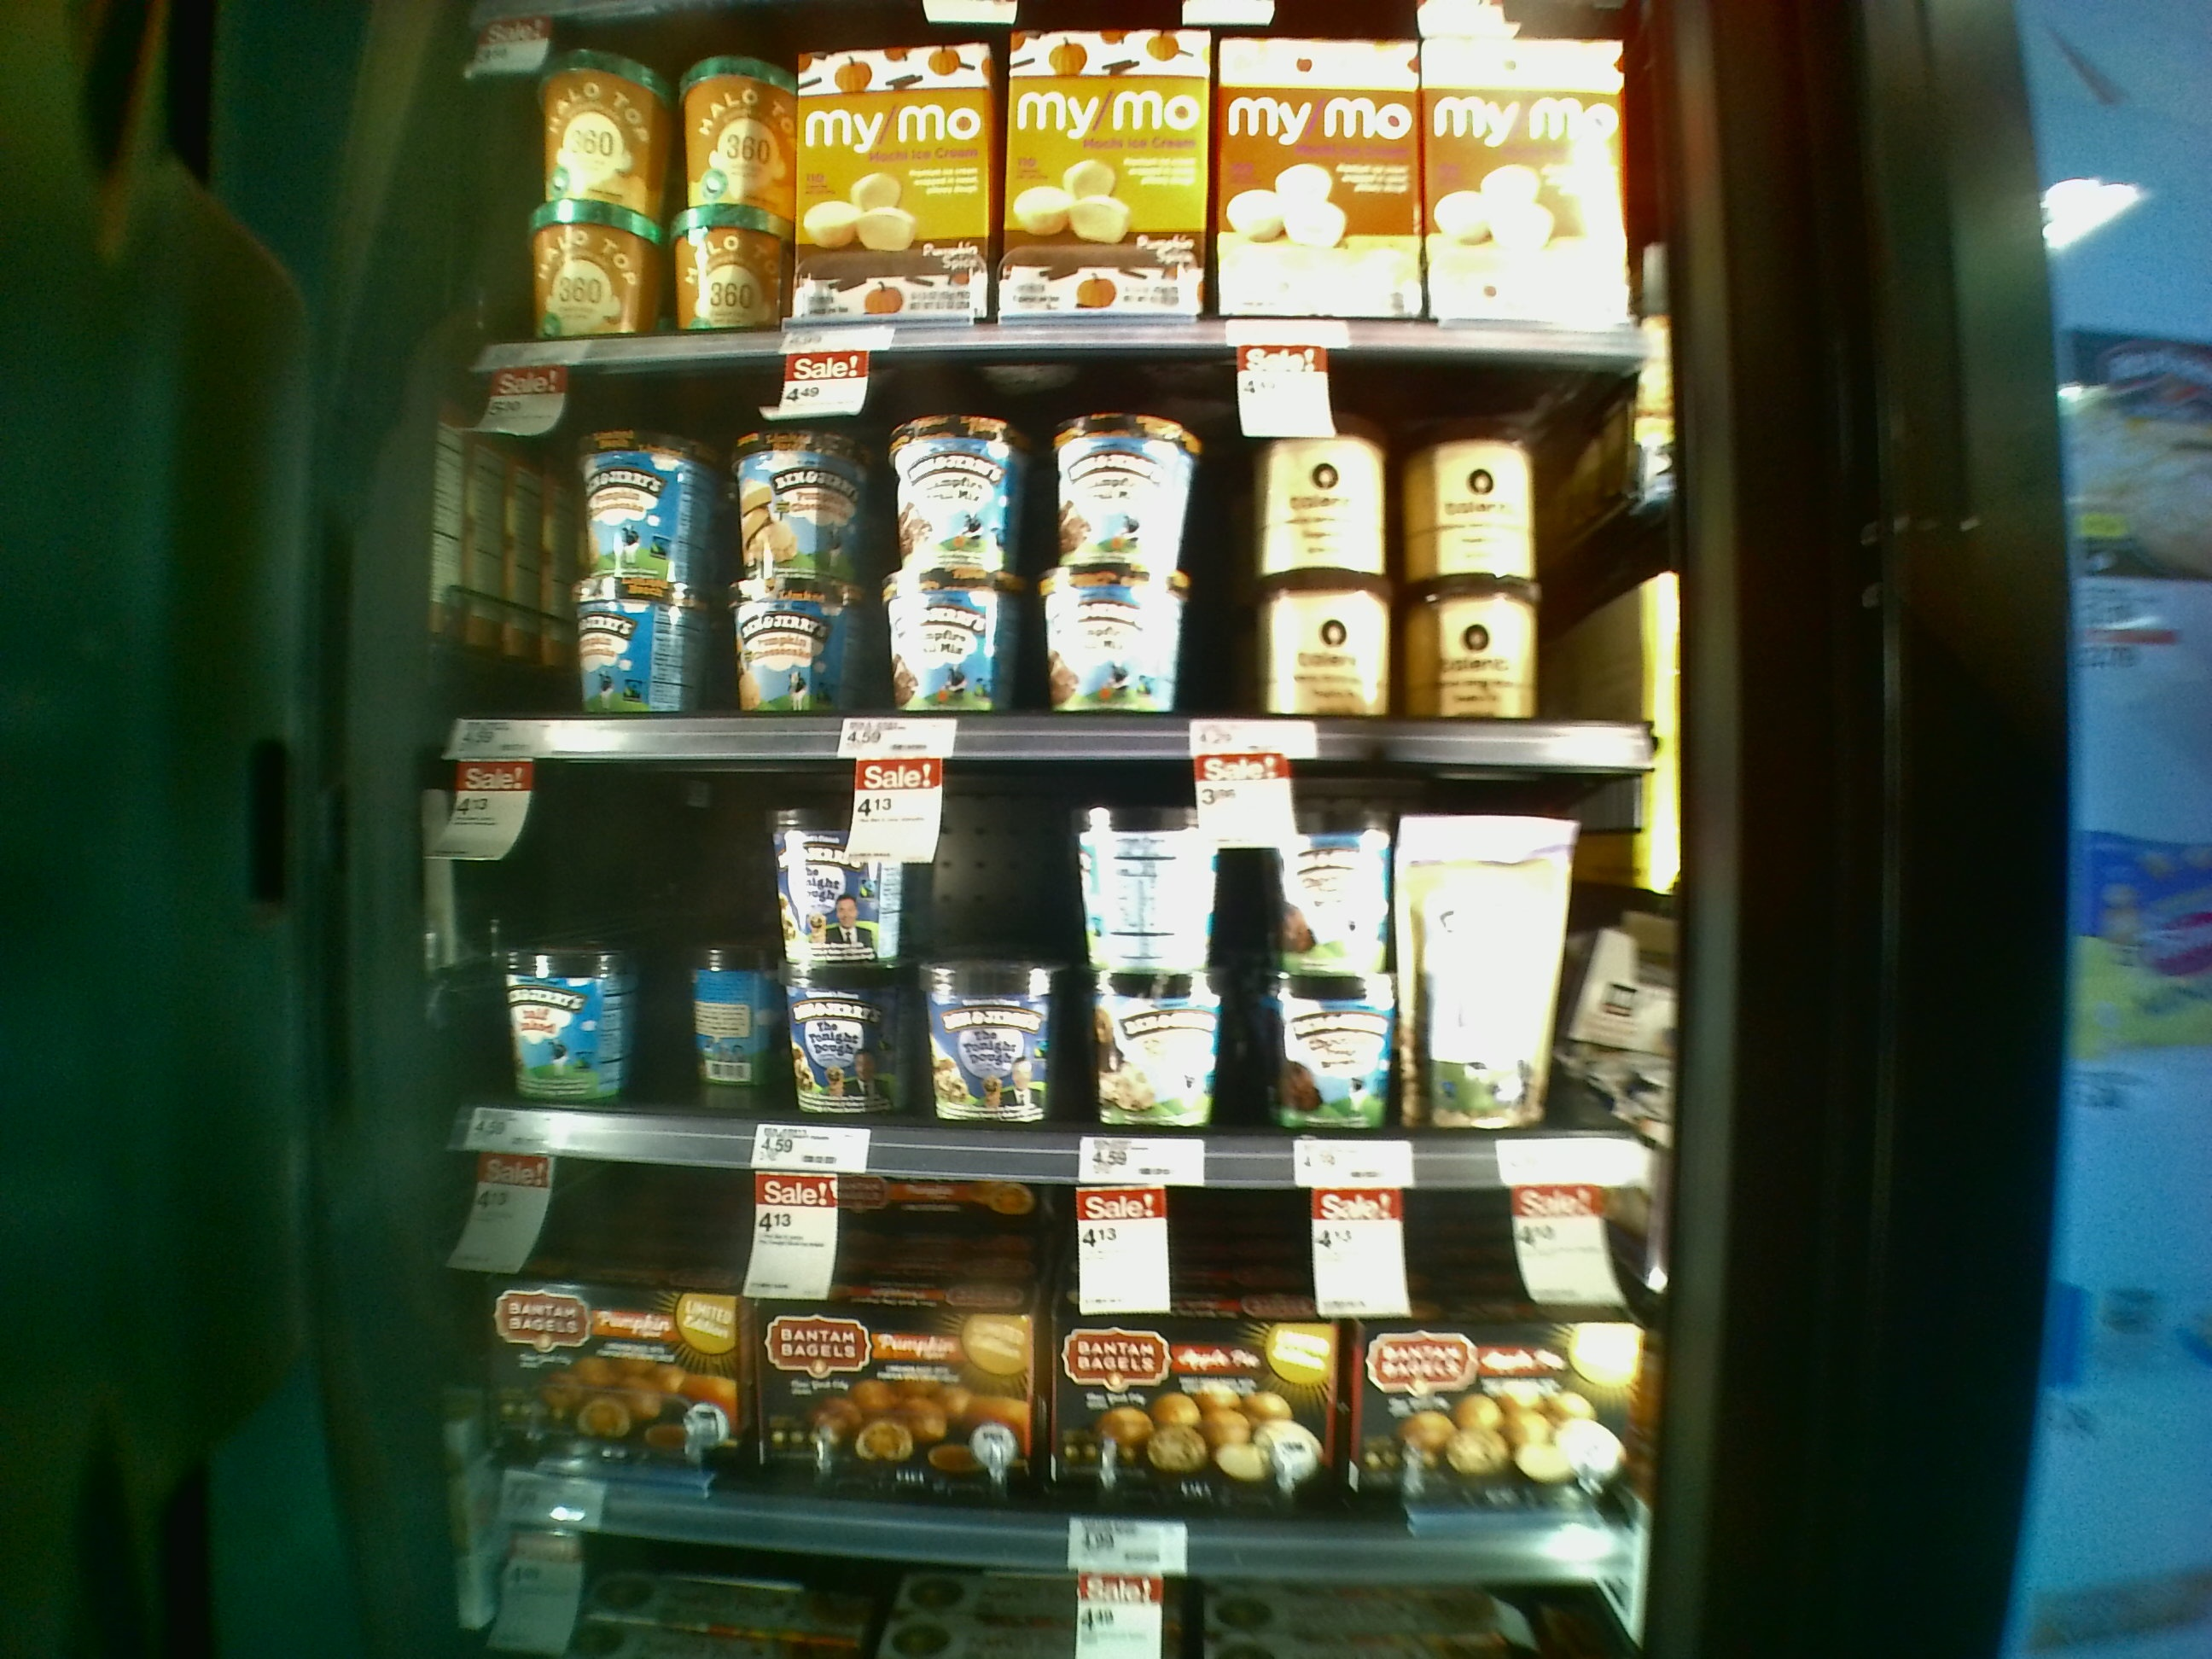shelf: (451, 1110, 1655, 1561), (441, 737, 1658, 1169), (446, 354, 1667, 760)
